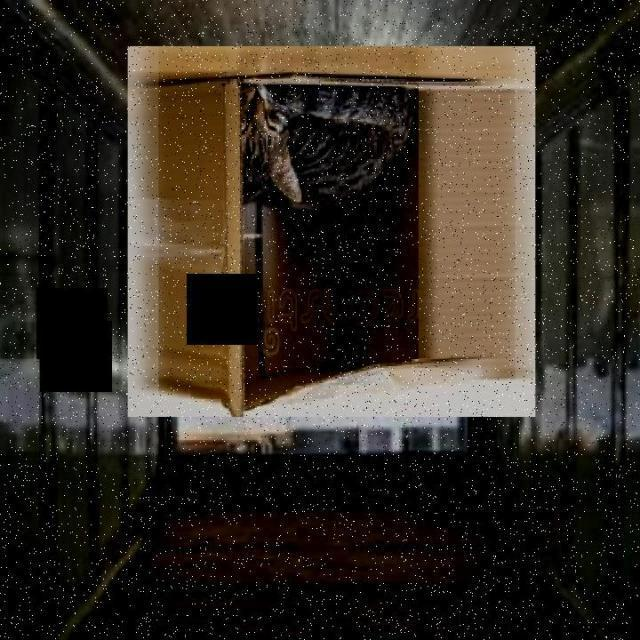box: (120, 39, 540, 422)
